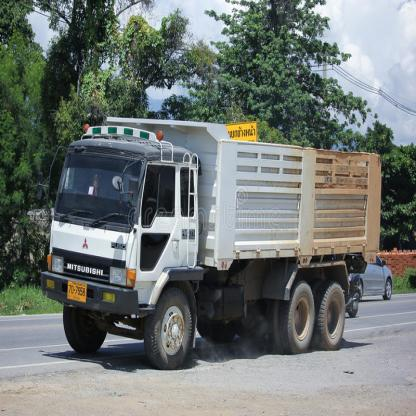truck: (39, 114, 380, 369)
